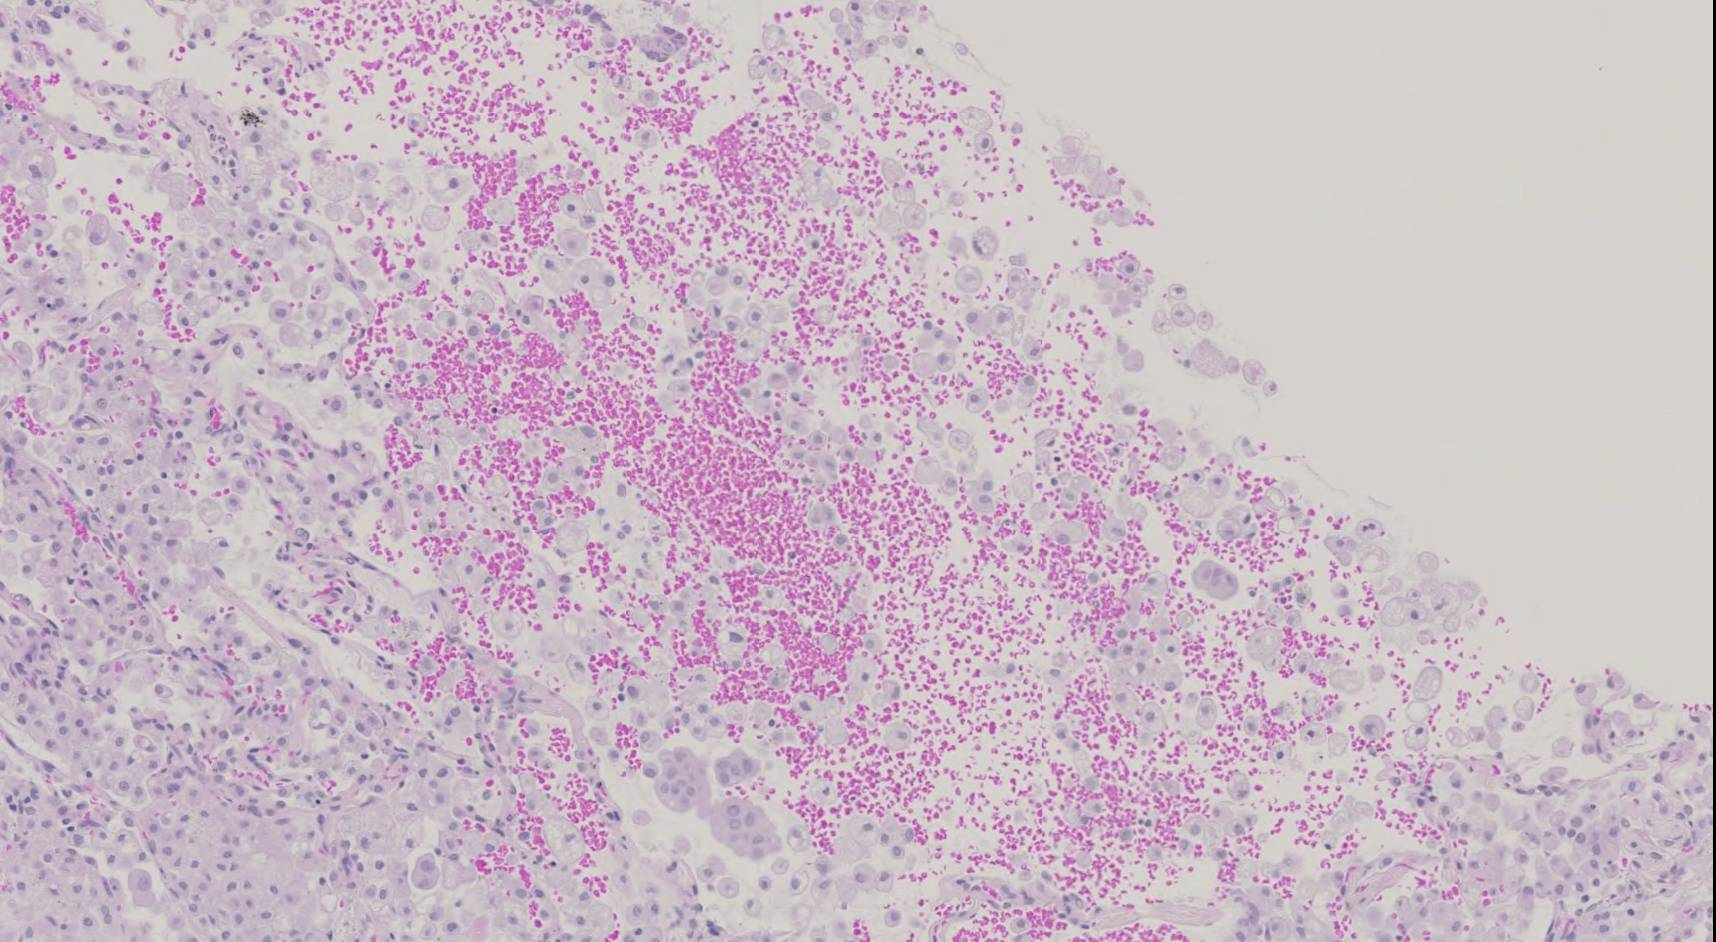stas: (654, 744, 784, 859), (1189, 558, 1243, 601), (633, 21, 686, 63)
